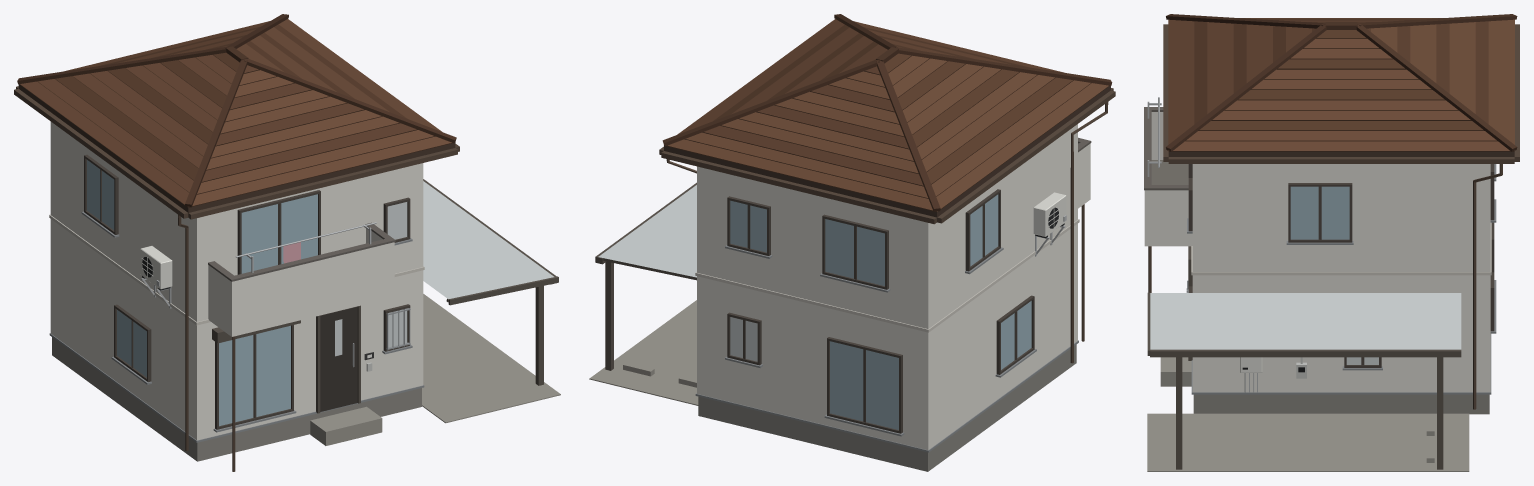
The model's file is house_b.glb.
3 views of the same model, side by side, from view 1: azimuth 30°, elevation 25°; view 2: azimuth 150°, elevation 25°; view 3: azimuth 270°, elevation 25° (orthographic). The views are drawn at different scales.
Visible parts, largest first — view 1: house_b; view 2: house_b; view 3: house_b.
Part boxes in pixels (x1=…): house_b: x1=14, y1=14, x2=560, y2=471; house_b: x1=589, y1=14, x2=1115, y2=471; house_b: x1=1144, y1=14, x2=1519, y2=471.
Bounding box in the file's own units: 8.1 × 6.93 × 7.06.
